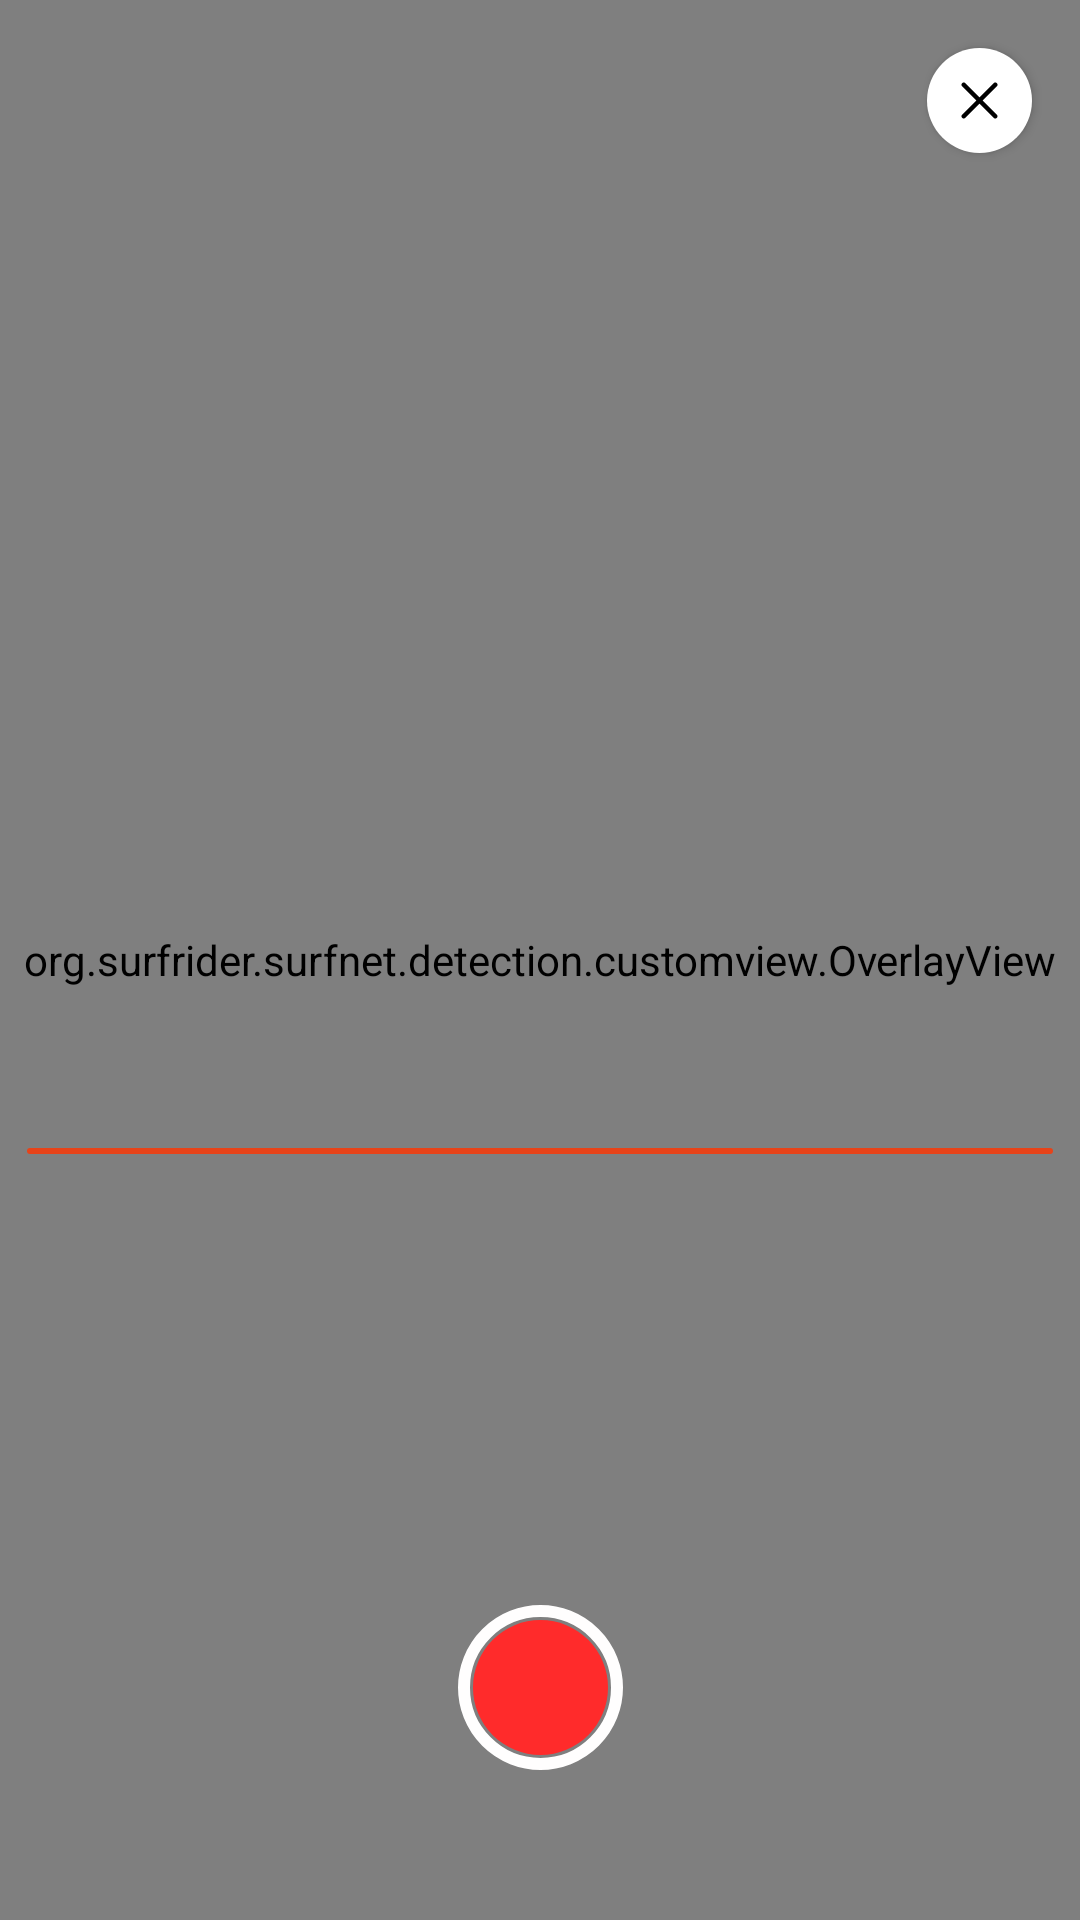

Screen size 1080 × 1920. Icon name, then its center in pixels as (x,y):
start: (540,1687)
